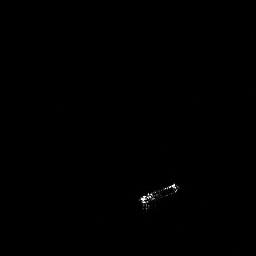ship: (138, 181, 181, 213)
